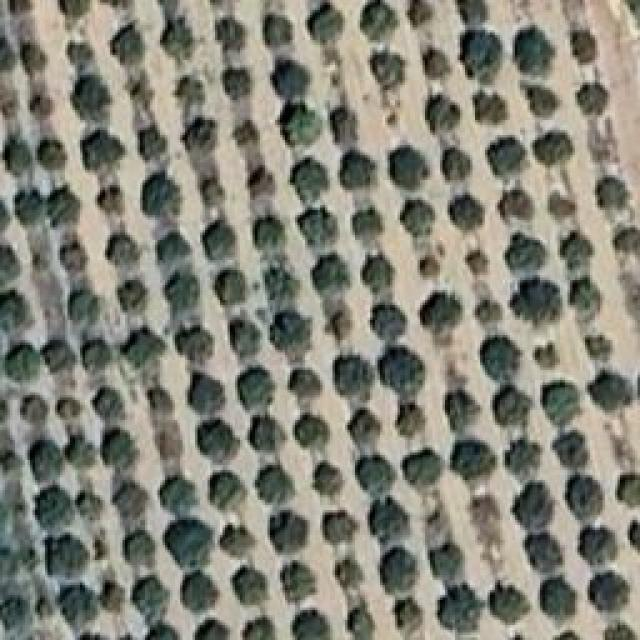Tree: (40, 530, 97, 580), (375, 345, 430, 393), (163, 518, 214, 569), (560, 473, 613, 522), (435, 585, 490, 632), (510, 275, 557, 328), (588, 367, 640, 412), (461, 28, 504, 81), (513, 28, 561, 75), (513, 480, 560, 527), (307, 250, 354, 296), (275, 103, 323, 148), (542, 380, 587, 427), (82, 125, 126, 172), (358, 452, 402, 499), (268, 310, 317, 352), (332, 355, 377, 400), (540, 575, 583, 622), (585, 575, 629, 619), (448, 187, 491, 232), (420, 290, 463, 335), (65, 73, 111, 115), (478, 335, 522, 378), (367, 303, 412, 345), (450, 440, 495, 482), (278, 560, 319, 605), (445, 385, 484, 432), (573, 525, 621, 563), (110, 23, 153, 65), (155, 228, 198, 270), (505, 438, 548, 480), (555, 228, 596, 272), (198, 420, 242, 461), (490, 585, 531, 629), (155, 473, 200, 513), (504, 235, 546, 277), (380, 548, 421, 591), (288, 155, 328, 199), (308, 3, 348, 47), (368, 50, 412, 90), (360, 2, 399, 47), (343, 407, 382, 452), (238, 365, 280, 406), (138, 170, 178, 213), (565, 275, 604, 319), (130, 578, 171, 619), (388, 148, 430, 188), (525, 533, 565, 575), (298, 208, 337, 251), (268, 58, 311, 97), (535, 125, 575, 166), (255, 465, 296, 505), (493, 385, 535, 424), (180, 573, 222, 612), (203, 470, 246, 508), (400, 448, 446, 483), (158, 18, 197, 59), (368, 500, 409, 539), (233, 568, 272, 609), (48, 185, 86, 227), (3, 343, 46, 380), (103, 230, 142, 270), (215, 525, 256, 563), (593, 173, 635, 210), (160, 275, 202, 312), (110, 483, 152, 520), (178, 325, 217, 364), (60, 583, 98, 623), (185, 378, 226, 415), (308, 460, 345, 501), (332, 558, 366, 602), (8, 190, 46, 229), (488, 138, 527, 176), (270, 513, 308, 552), (293, 413, 330, 453), (123, 332, 166, 366), (0, 592, 33, 636), (263, 265, 301, 303), (255, 10, 293, 48), (403, 195, 439, 235), (35, 485, 70, 526), (430, 543, 465, 584), (293, 605, 334, 640), (28, 443, 65, 481), (353, 210, 388, 250), (0, 143, 38, 179), (100, 430, 138, 466), (230, 320, 265, 359), (123, 533, 158, 572), (202, 218, 236, 258), (323, 508, 357, 548), (418, 45, 455, 81), (438, 143, 474, 180), (527, 85, 560, 125), (573, 80, 614, 112), (423, 98, 459, 134), (555, 430, 591, 466), (185, 115, 220, 152), (253, 218, 290, 253), (500, 188, 535, 225), (358, 253, 393, 290), (213, 15, 250, 50), (75, 485, 109, 523), (0, 293, 30, 336), (478, 88, 514, 123), (390, 598, 422, 637), (115, 283, 150, 318), (173, 72, 209, 106), (15, 40, 51, 74), (342, 607, 379, 640), (448, 0, 491, 28), (220, 65, 254, 100), (250, 413, 285, 447), (290, 365, 322, 402), (340, 152, 374, 186), (67, 287, 101, 321), (137, 123, 169, 159), (213, 270, 250, 301), (77, 345, 110, 379), (395, 405, 426, 441), (63, 38, 100, 68), (617, 460, 639, 510), (150, 427, 184, 459), (470, 297, 503, 329), (582, 332, 615, 364), (65, 437, 96, 471), (98, 583, 129, 617), (95, 388, 129, 418), (38, 137, 67, 172), (58, 238, 86, 274), (195, 615, 235, 640), (324, 307, 354, 340), (50, 392, 80, 425), (535, 338, 563, 373), (333, 108, 360, 144), (27, 90, 59, 120), (568, 30, 596, 64), (198, 173, 225, 208), (23, 396, 52, 428), (0, 242, 21, 286), (145, 385, 173, 417), (460, 250, 492, 278), (83, 535, 109, 567), (45, 338, 74, 366), (405, 0, 435, 27), (550, 194, 576, 224), (93, 185, 124, 210), (237, 620, 275, 640), (414, 253, 444, 278), (57, 0, 96, 19), (613, 225, 640, 251), (235, 120, 260, 147), (148, 620, 181, 640), (603, 622, 638, 640), (250, 165, 273, 191), (627, 520, 640, 550)
